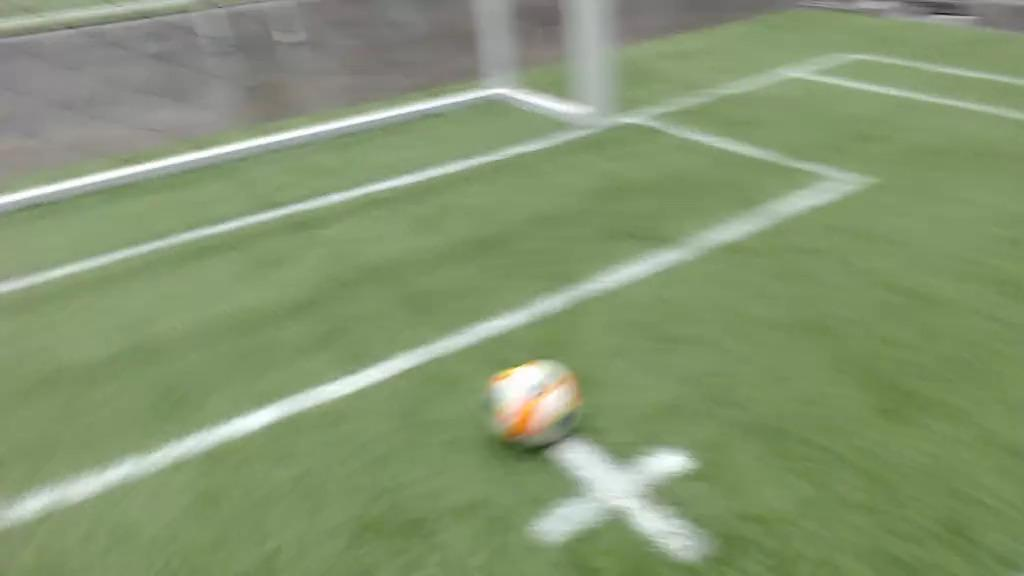ball: (476, 346, 593, 454)
